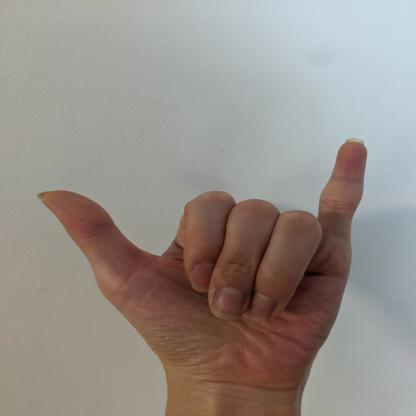Y: (30, 134, 373, 396)
